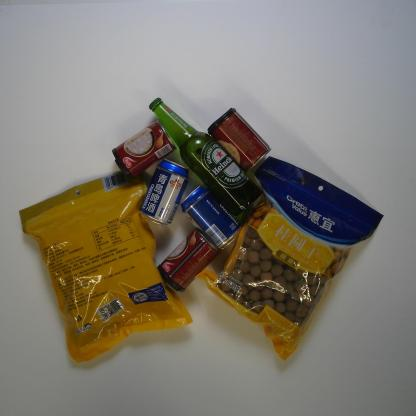Alcohol: (148, 97, 264, 216), (179, 181, 243, 252), (135, 157, 193, 228)
Canned Food: (205, 106, 270, 173), (159, 227, 219, 293), (112, 121, 173, 177)
Dried Food: (194, 152, 386, 364), (19, 169, 194, 362)
